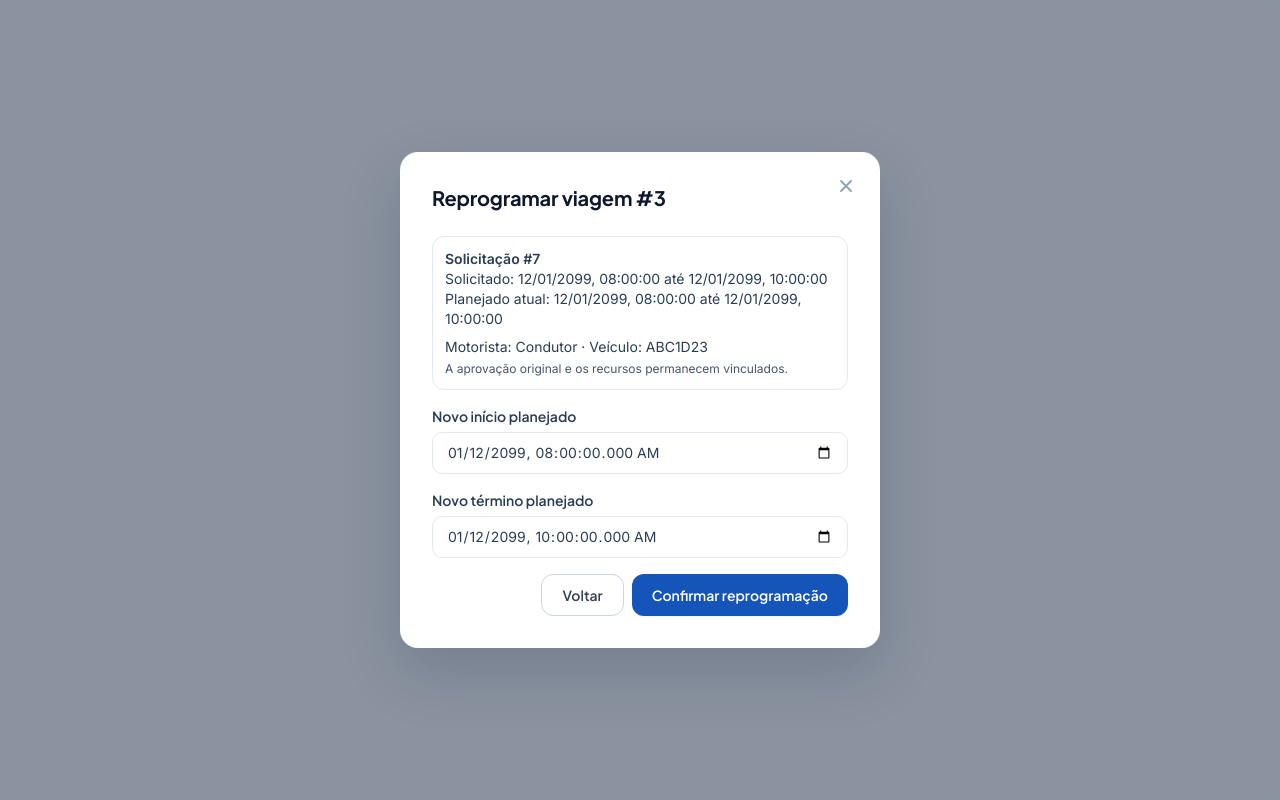
it: A6 interface administrativa › não envia intervalo inválido
Replace the text in the field labelled "Novo início planejado" with "2099-01-13T08:00". click: (640, 453)
box: [432,432,848,474]
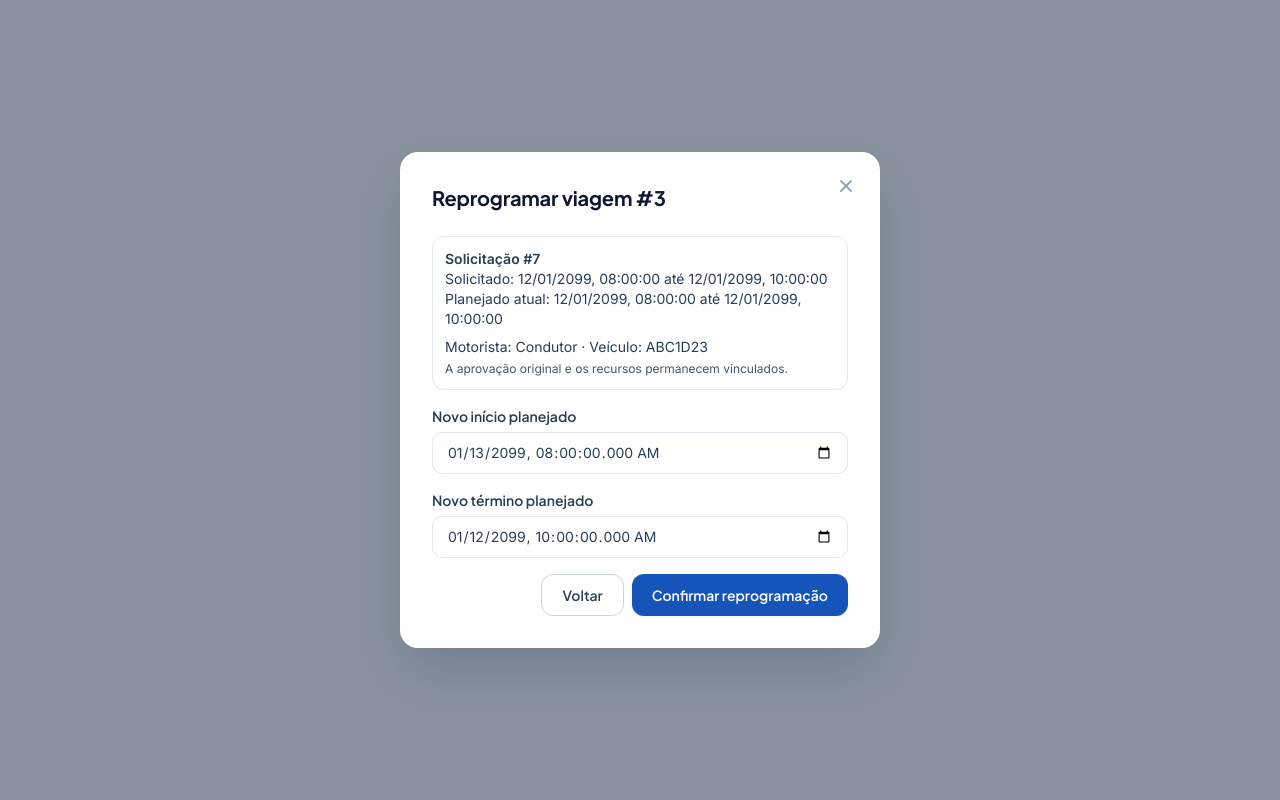
Replace the text in the field labelled "Novo término planejado" with "2099-01-13T10:00". click: (640, 537)
box: [432,516,848,558]
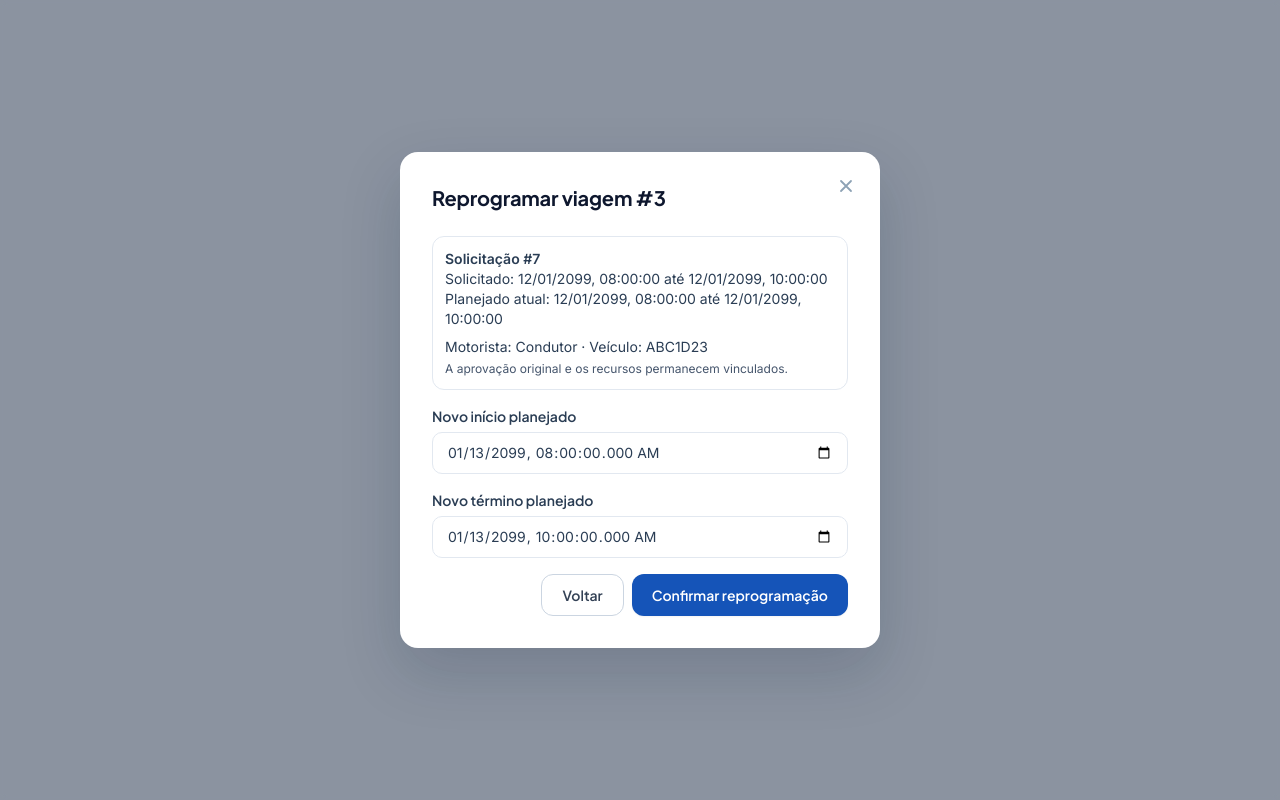
Replace the text in the field labelled "Novo término planejado" with "2099-01-13T07:00". click: (640, 537)
box: [432,516,848,558]
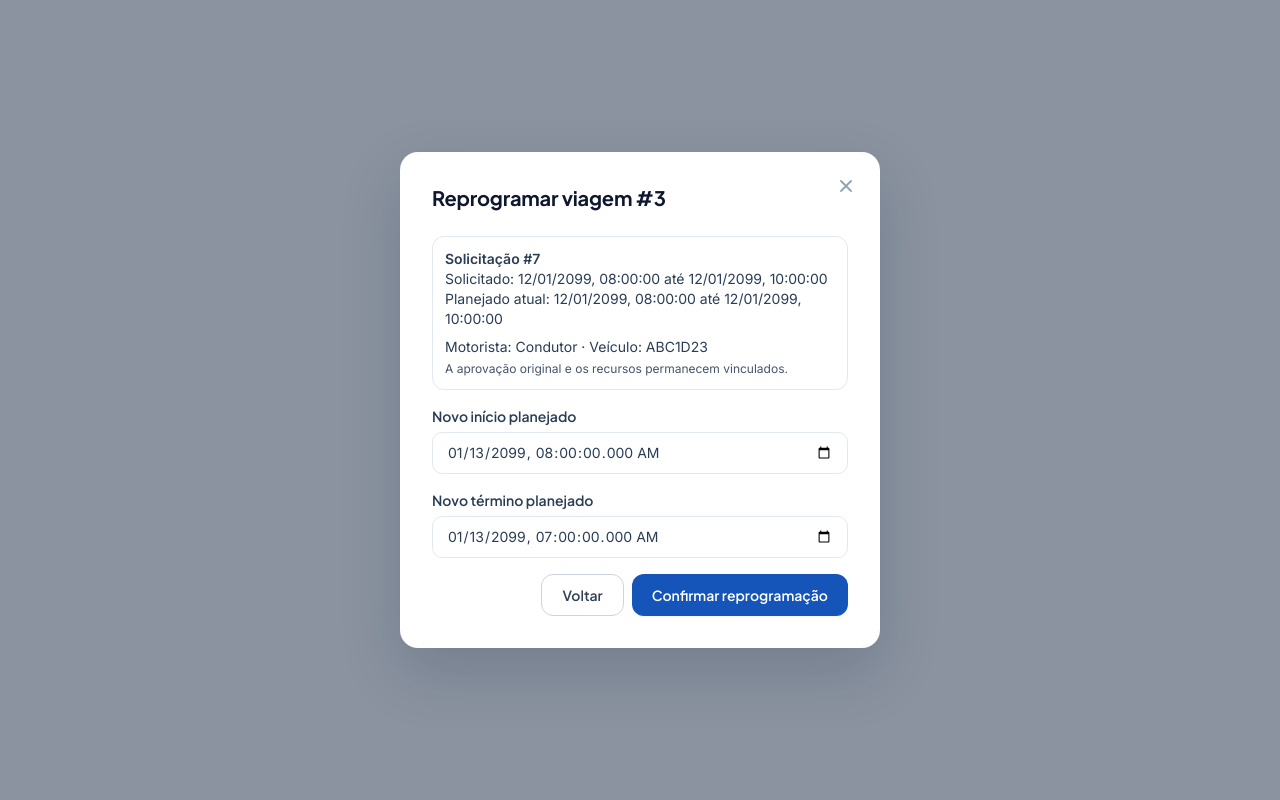
Submit the form named "Confirmar reprogramação", box [432,236,848,616]
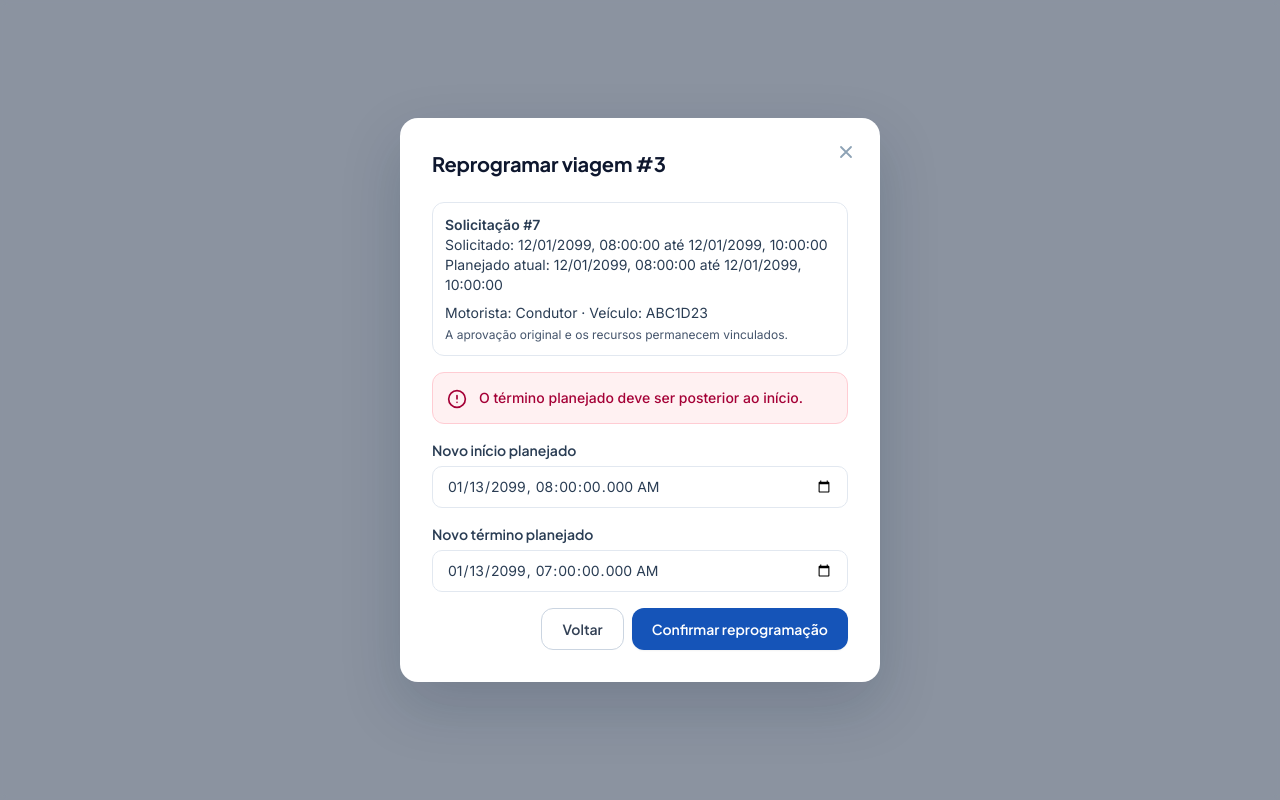
expect the text "O término planejado deve ser posterior ao início." is shown: met, box [479,387,833,409]
